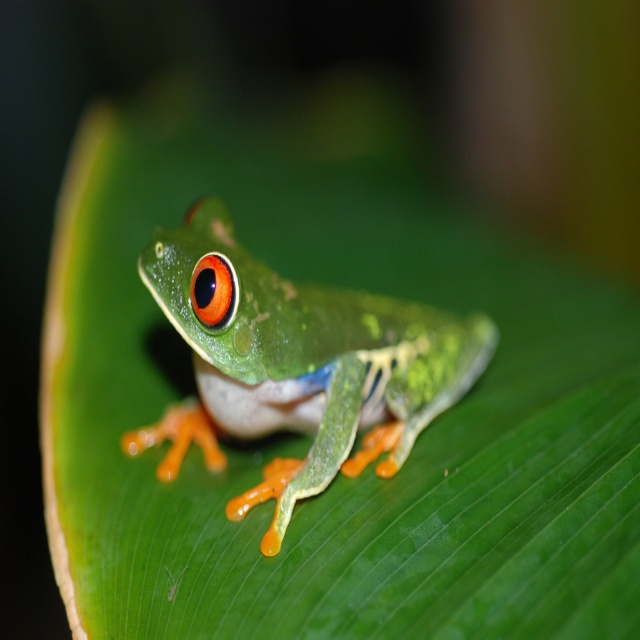Frog: (118, 192, 500, 558)
